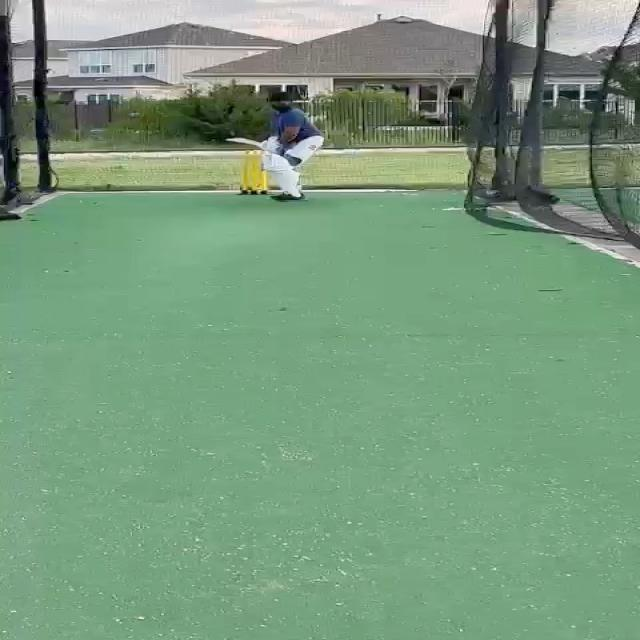batsman: (222, 90, 329, 203)
